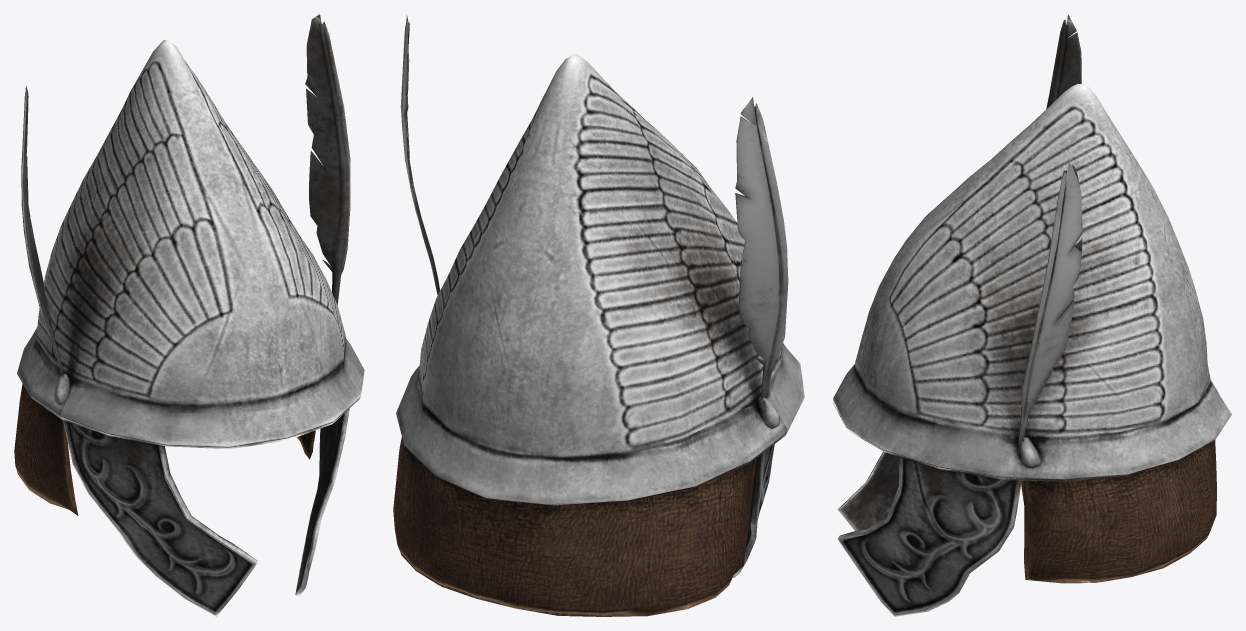
Rendered from lrd_marines_gondor_3_helmet.fbx.
The picture shows the model from 3 angles, left to right: view 1: azimuth 30°, elevation 25°; view 2: azimuth 150°, elevation 25°; view 3: azimuth 270°, elevation 25°; orthographic projection. The views are drawn at different scales.
Parts seen in each view (by area): view 1: lrd_marines_gondor_3_helmet; view 2: lrd_marines_gondor_3_helmet; view 3: lrd_marines_gondor_3_helmet.
Part boxes in pixels (x1,y1,x2,y2): lrd_marines_gondor_3_helmet: (14,14,364,616); lrd_marines_gondor_3_helmet: (393,14,804,616); lrd_marines_gondor_3_helmet: (833,14,1231,616).
Bounding box in the file's own units: 0.2523 × 0.2611 × 0.37.
1 material, 1 textured.
